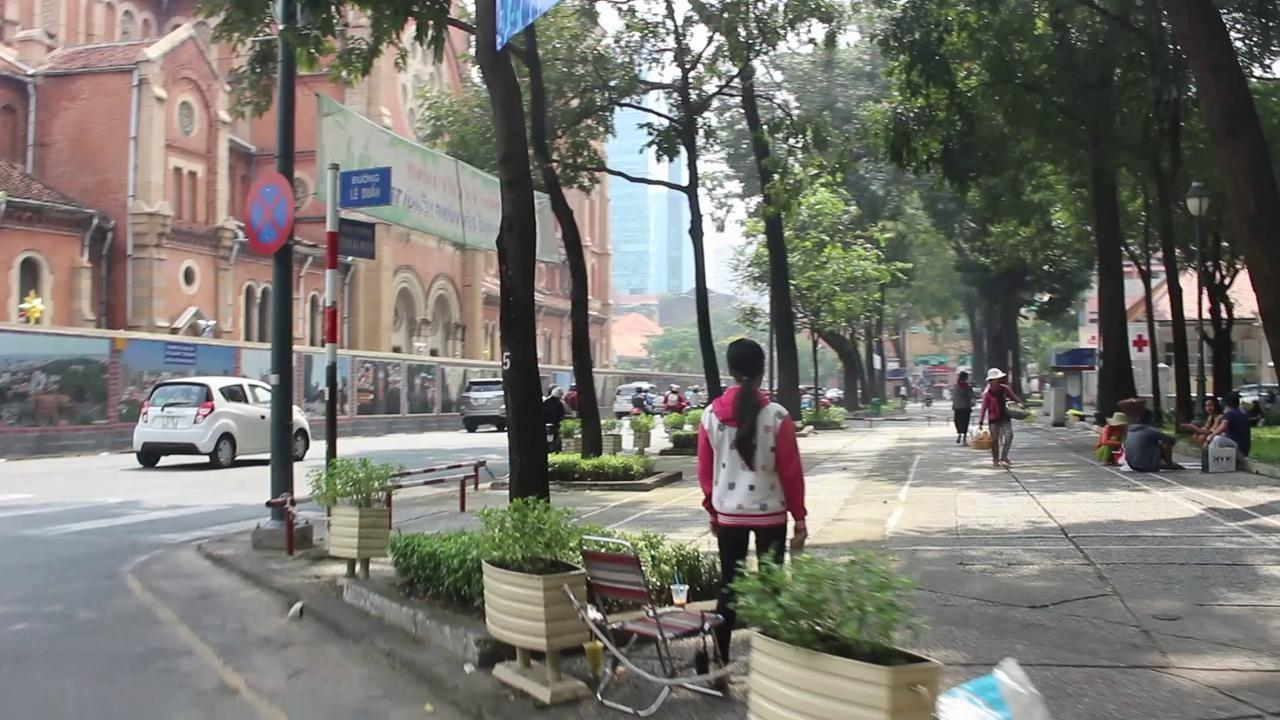P.103a: (241, 174, 295, 252)
